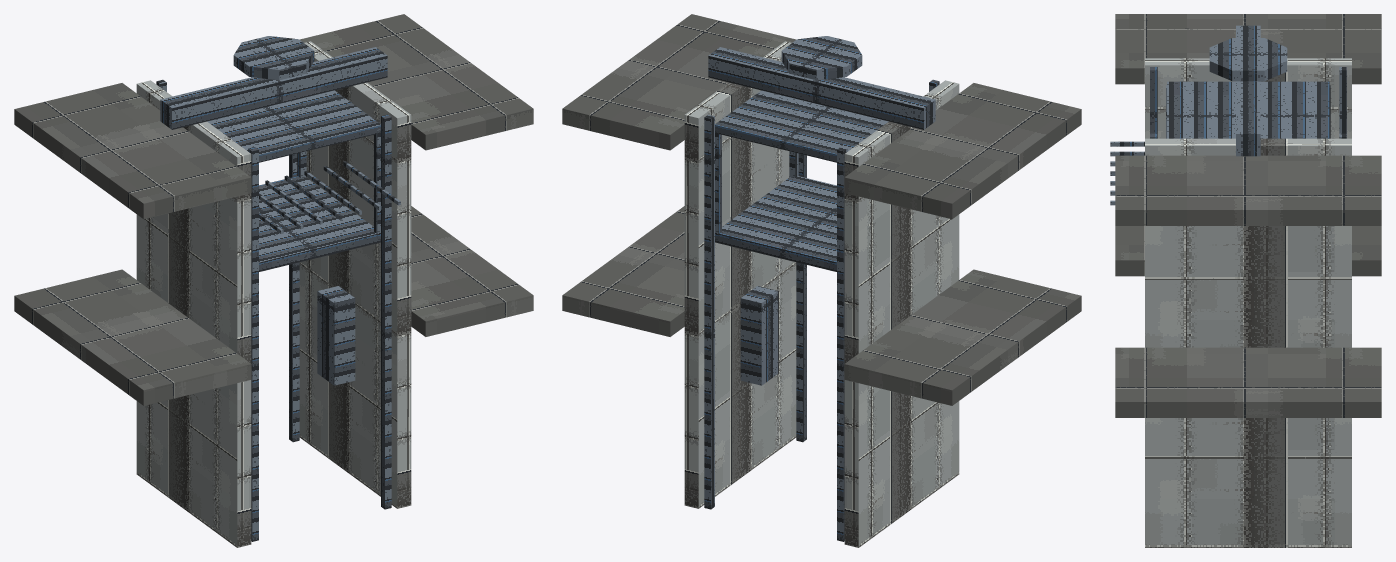
File: lm_freight_shaft.glb
3 renders of one model, left to right at view 1: azimuth 30°, elevation 25°; view 2: azimuth 150°, elevation 25°; view 3: azimuth 270°, elevation 25°, orthographic. The views are drawn at different scales.
Visible parts, largest first — view 1: lm_freight_shaft; view 2: lm_freight_shaft; view 3: lm_freight_shaft.
Part boxes in pixels (x1,y1,x2,y2): lm_freight_shaft: [14, 14, 533, 547]; lm_freight_shaft: [562, 14, 1081, 547]; lm_freight_shaft: [1110, 14, 1381, 547].
Bounding box in the file's own units: 9.4 × 10.07 × 5.5.
20 materials, 20 textured.
